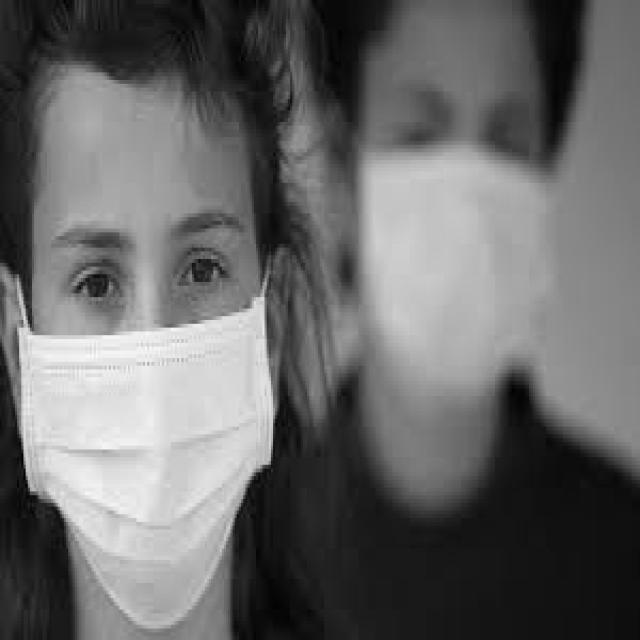with_mask: (13, 247, 275, 628), (354, 137, 559, 419)
